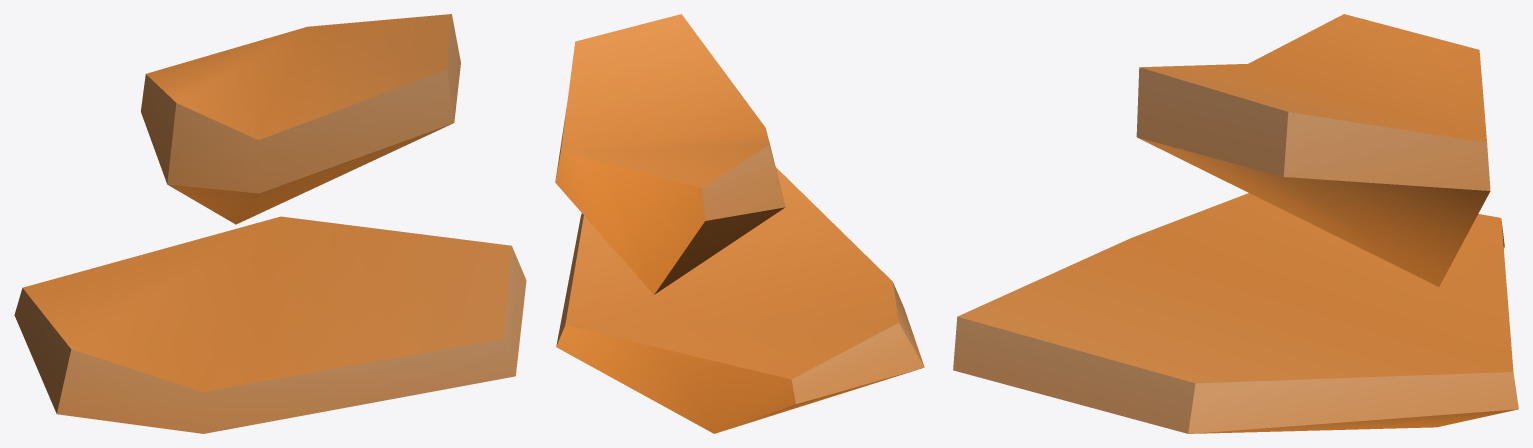
Rendered from Mushroom_D_2.fbx.
3 renders of one model, left to right at view 1: azimuth 30°, elevation 25°; view 2: azimuth 150°, elevation 25°; view 3: azimuth 270°, elevation 25°, orthographic. The views are drawn at different scales.
Visible parts, largest first — view 1: Mushroom_D_2; view 2: Mushroom_D_2; view 3: Mushroom_D_2.
Part boxes in pixels (<box>): Mushroom_D_2: <box>14,14,526,433</box>; Mushroom_D_2: <box>555,14,924,433</box>; Mushroom_D_2: <box>953,14,1518,433</box>.
Size of the model in its own units: 12.29 by 9.91 by 11.15.
